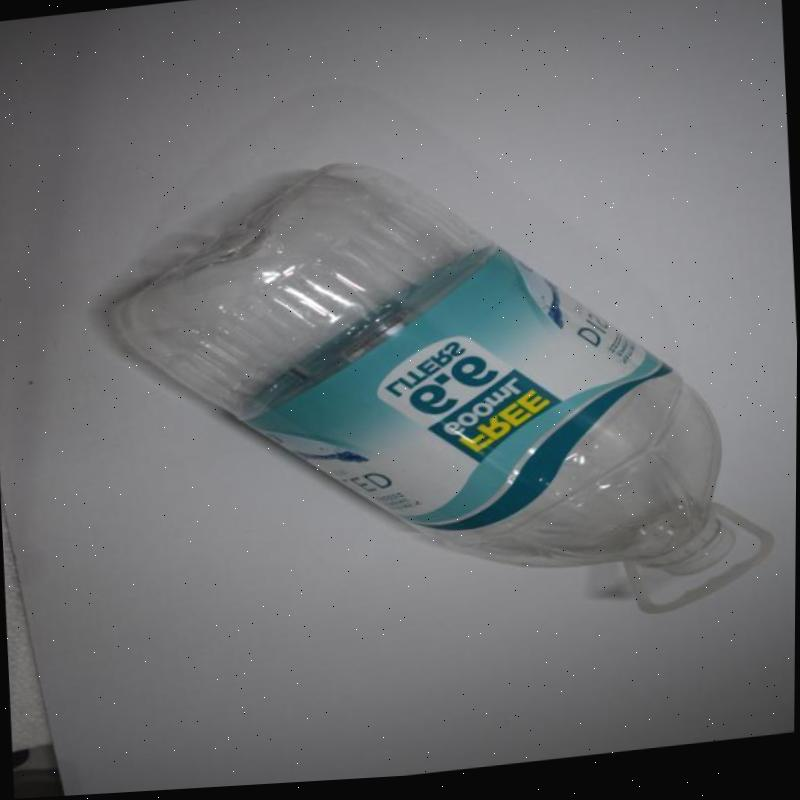botella: (96, 133, 749, 641)
